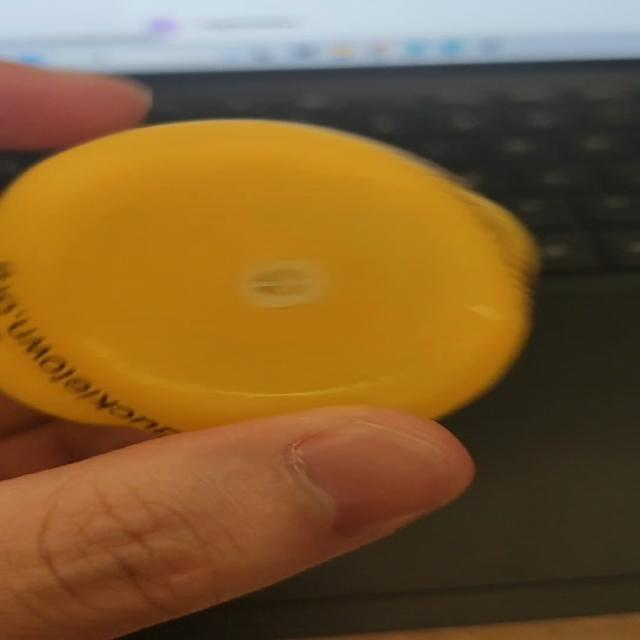rubber-duck: (0, 119, 536, 431)
